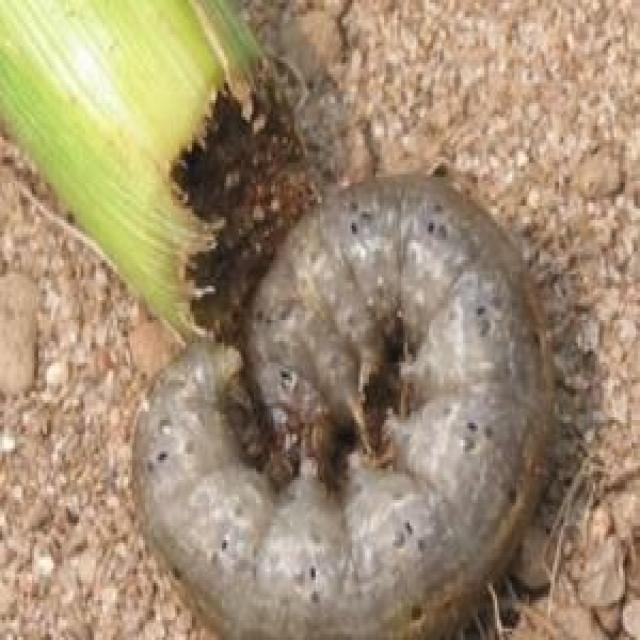black cutworm: (130, 147, 550, 632)
